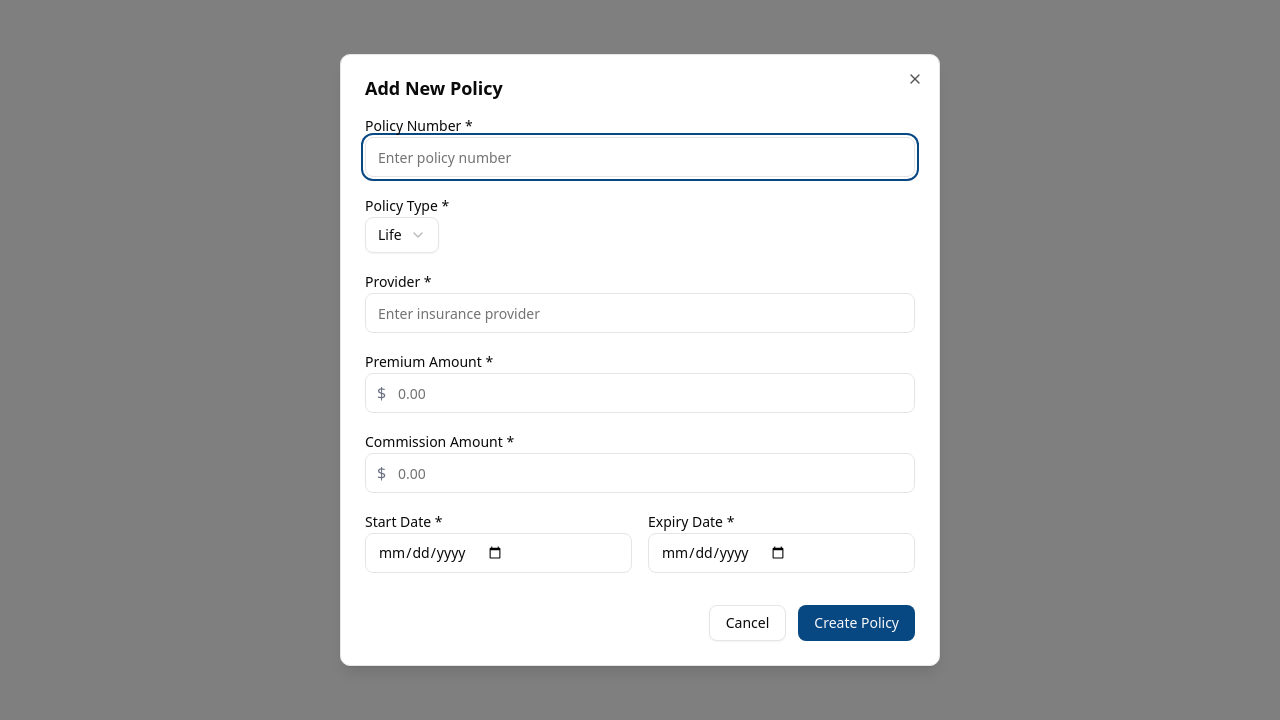
Test: Policy Management Integration › Error Recovery Scenarios › handles validation errors from server
The width and height of the screenshot is (1280, 720).
# Fill out form with data that passes client validation but fails server validation
Type "POL-123" into the field labelled "Policy Number *" at [640, 157], box [365,137,915,177]
Type "Test Insurance" into the field labelled "Provider *" at [640, 313], box [365,293,915,333]
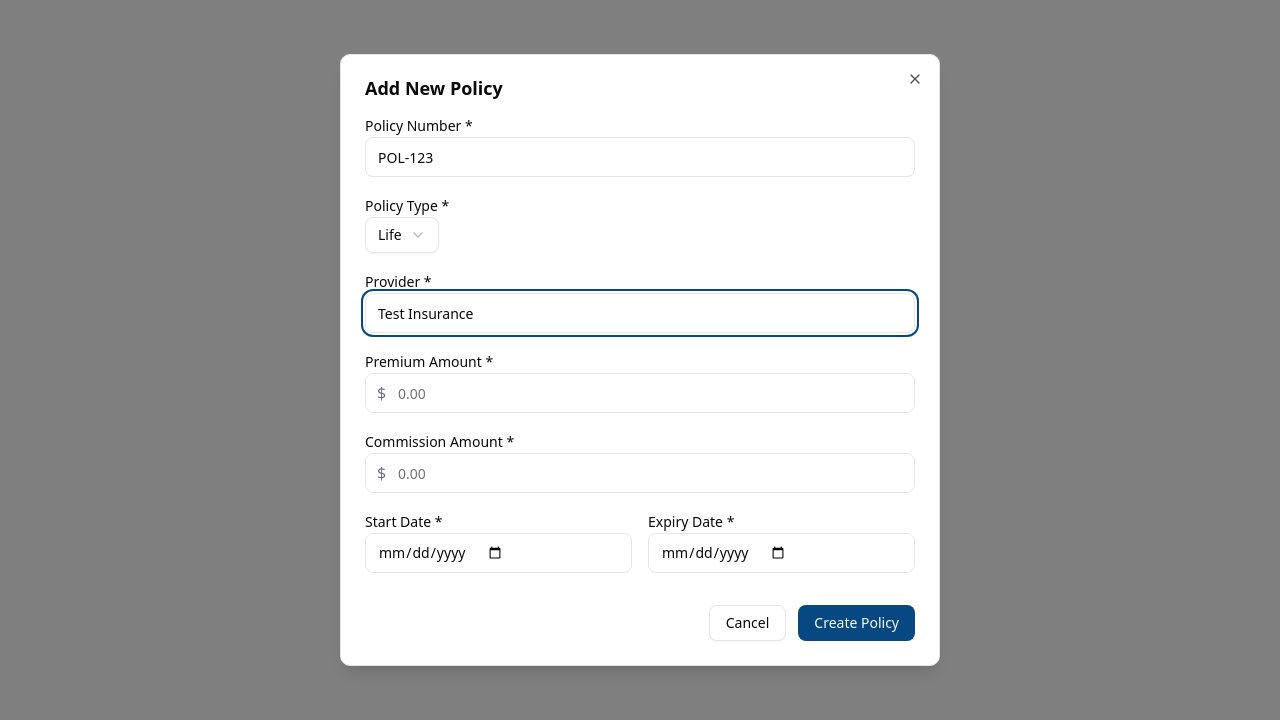
Type "1000" into the field labelled "Premium Amount *" at [640, 393], box [365,373,915,413]
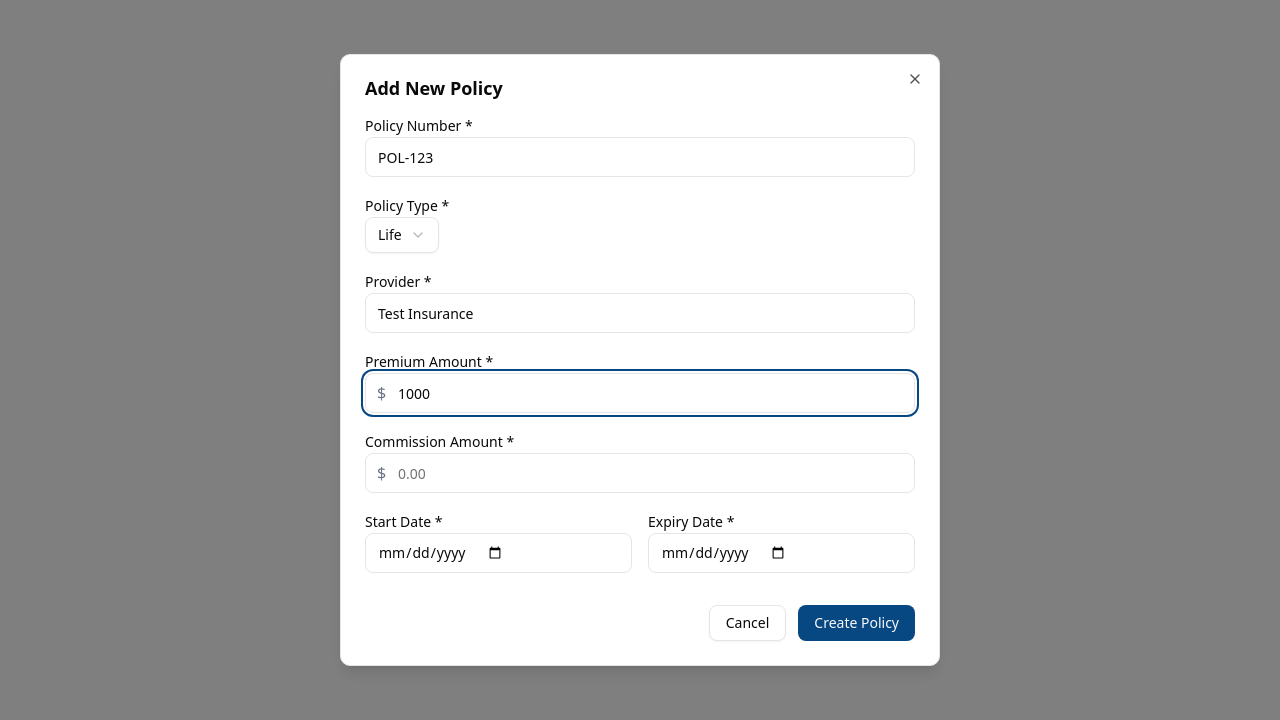
Type "100" into the field labelled "Commission Amount *" at [640, 473], box [365,453,915,493]
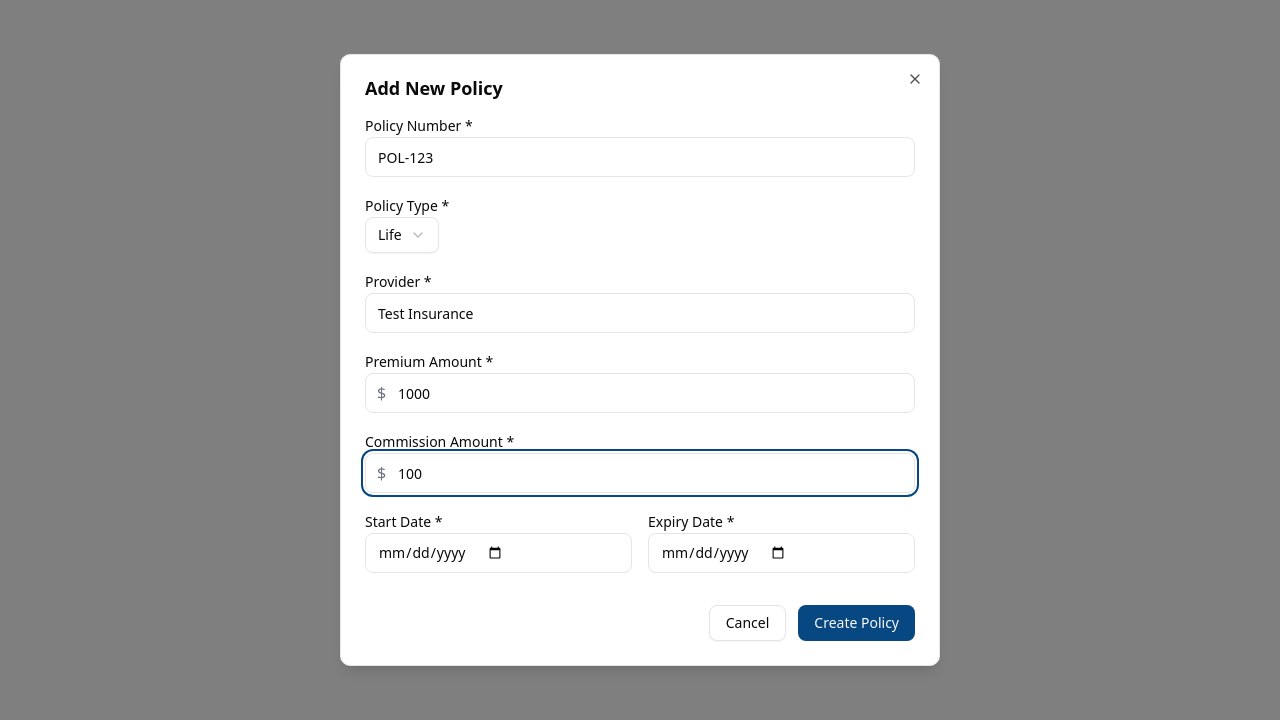
Type "2024-01-01" into the date field labelled "Start Date *" at [498, 553], box [365,533,632,573]
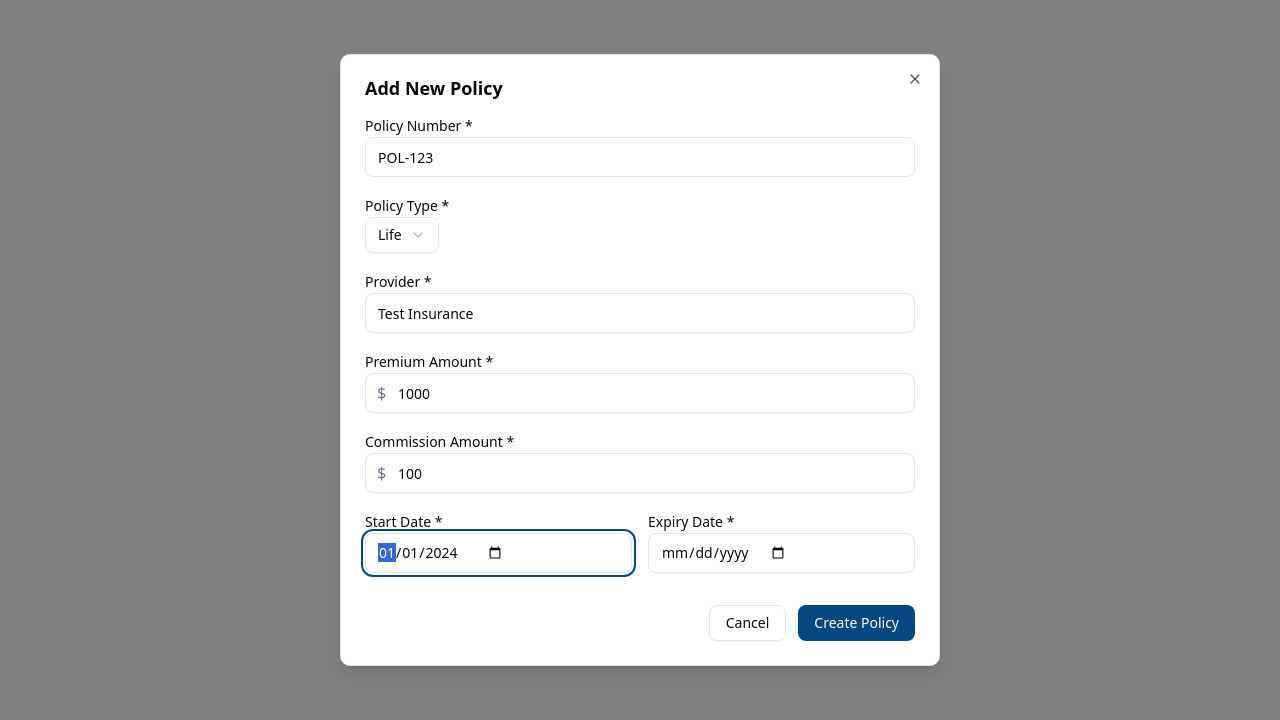
Type "2025-01-01" into the date field labelled "Expiry Date *" at [782, 553], box [648,533,915,573]
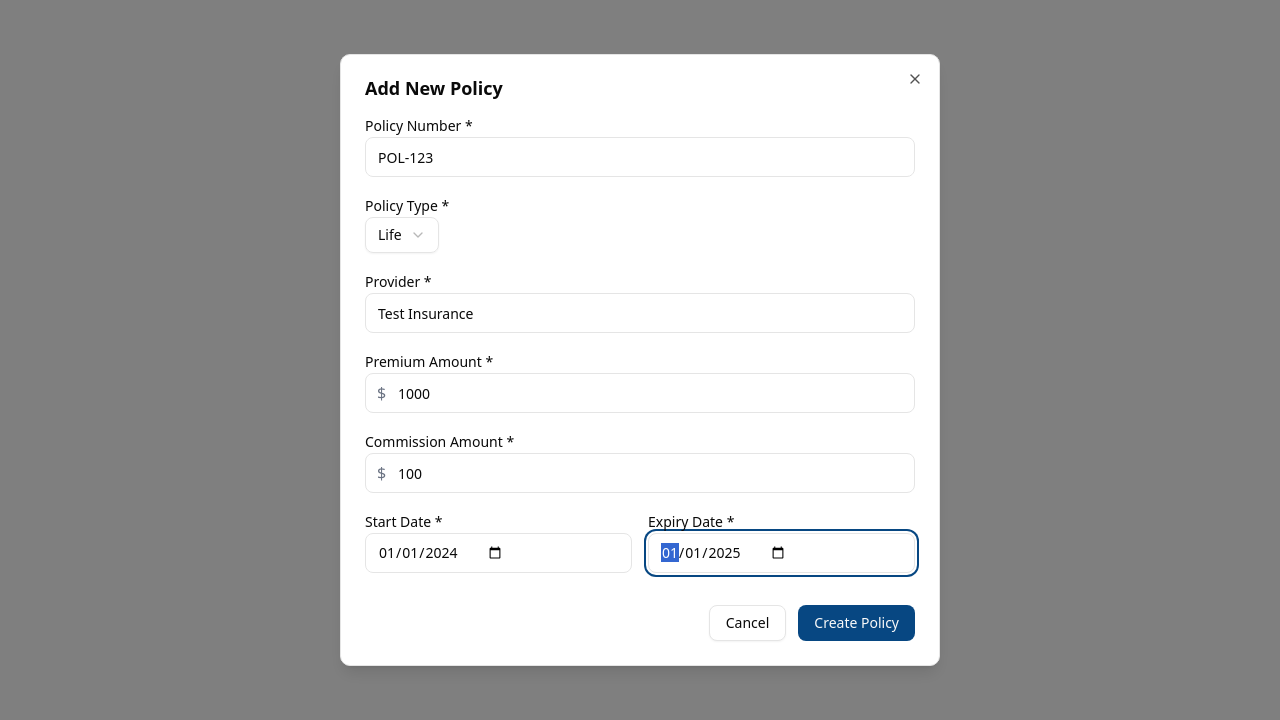
Click the button "Create Policy" at [857, 623], box [798,605,915,641]
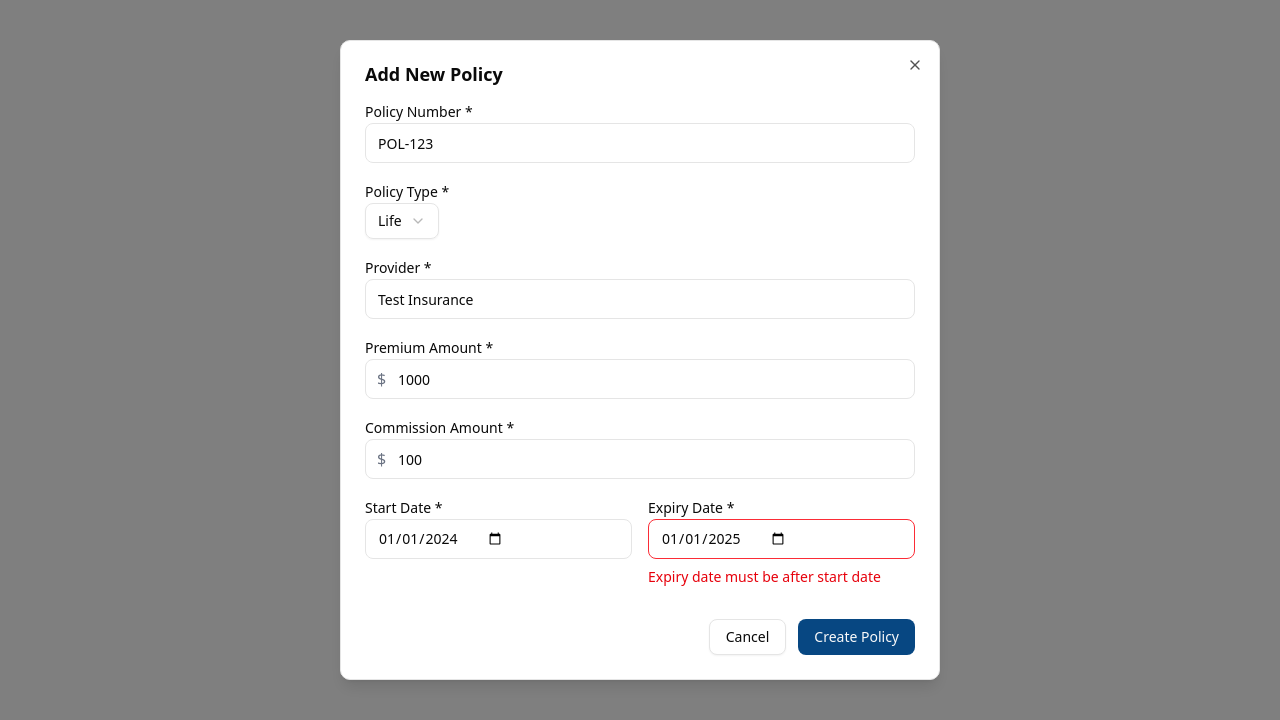
Expected: the text "Expiry date must be after start date" is shown, [648,567,915,587]
